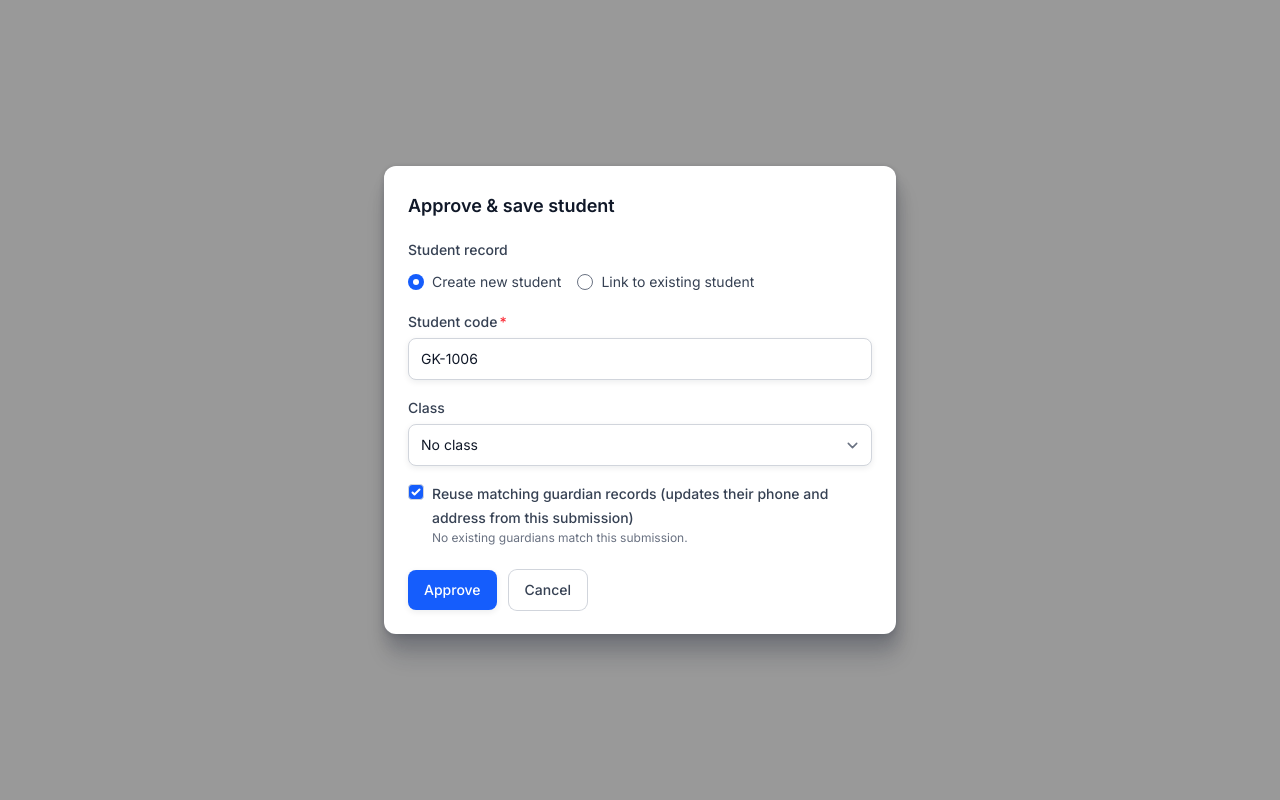
Scenario: RegistrationApproveDialog › pre-selects the first match when switching to link mode
This screenshot has width=1280, height=800.
Click the radio button labelled "Link to existing student": (585, 282) x1=577 y1=274 x2=593 y2=290
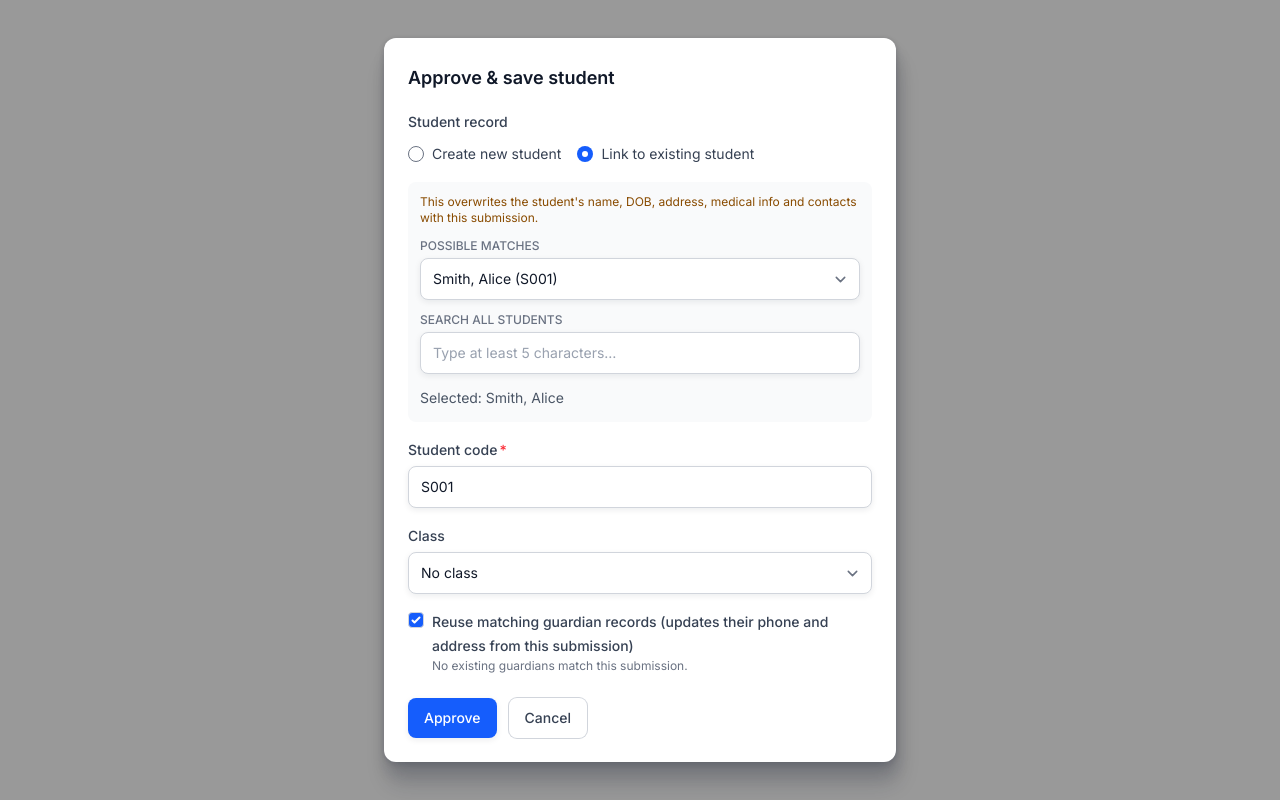
Result: the text "Selected: Smith, Alice" is shown at x1=420 y1=389 x2=564 y2=406
